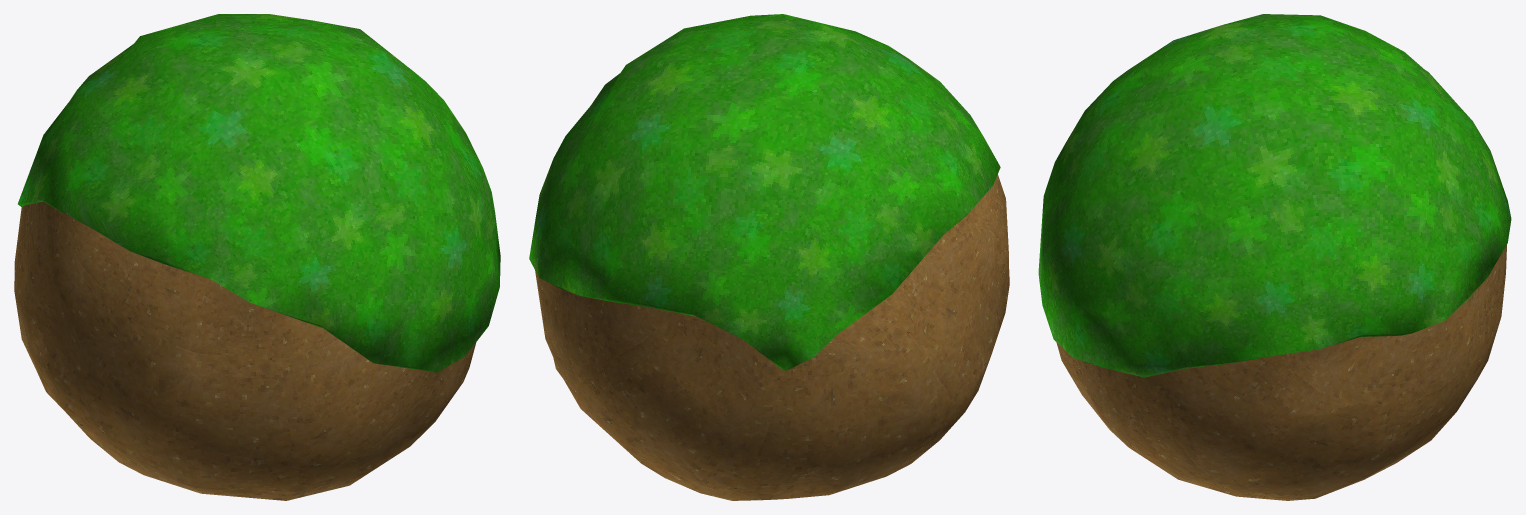
The model's file is HikeGardenPlanetLow.fbx.
3 views of the same model, side by side, from view 1: azimuth 30°, elevation 25°; view 2: azimuth 150°, elevation 25°; view 3: azimuth 270°, elevation 25° (orthographic).
Parts seen in each view (by area): view 1: mesh-1.001, mesh-1.000; view 2: mesh-1.001, mesh-1.000; view 3: mesh-1.001, mesh-1.000.
Part boxes in pixels (left/top/right/bottom): mesh-1.001: left=18, top=14, right=500, bottom=372; mesh-1.000: left=14, top=201, right=476, bottom=500; mesh-1.001: left=529, top=14, right=1000, bottom=370; mesh-1.000: left=535, top=174, right=1009, bottom=500; mesh-1.001: left=1038, top=14, right=1511, bottom=377; mesh-1.000: left=1056, top=245, right=1506, bottom=500.
Size of the model in its own units: 148041 by 147081 by 148066.
Materials: 2 (2 with a texture image).
